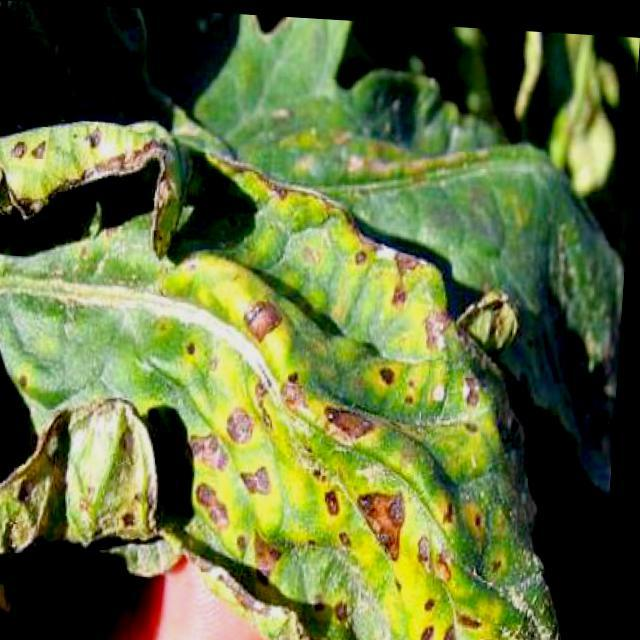Tomato Septoria spot leaf: (0, 75, 620, 639)
